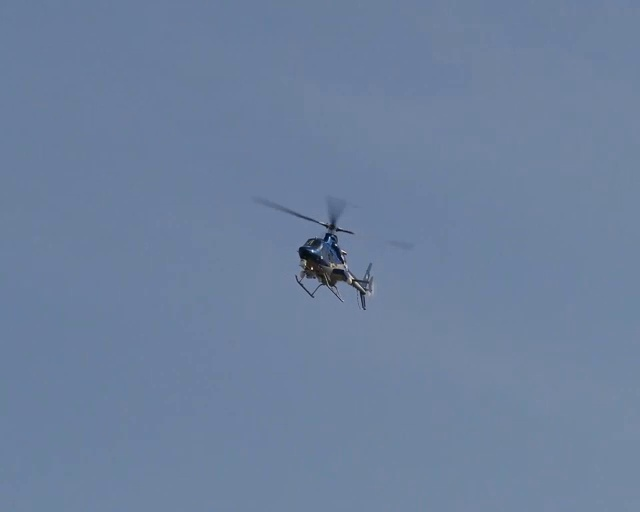HELICOPTER: (250, 192, 376, 310)
